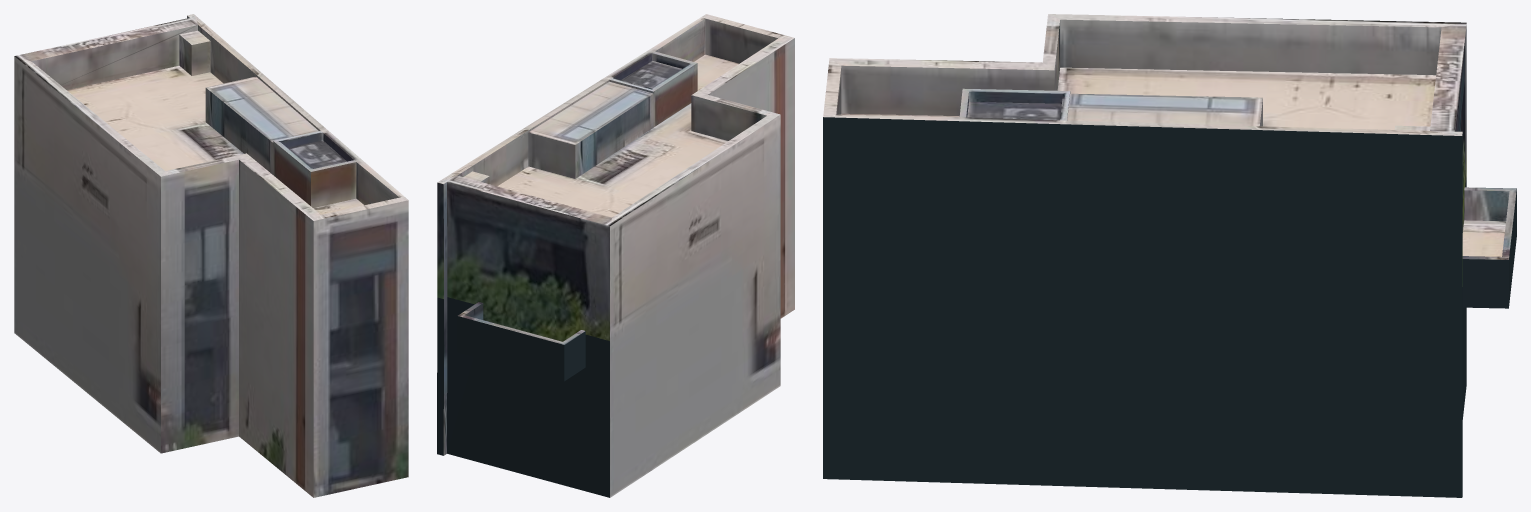
The picture shows the model from 3 angles, left to right: view 1: azimuth 30°, elevation 25°; view 2: azimuth 150°, elevation 25°; view 3: azimuth 270°, elevation 25°; orthographic projection. The views are drawn at different scales.
Visible parts, largest first — view 1: B283774038401062A0; view 2: B283774038401062A0; view 3: B283774038401062A0.
Part boxes in pixels (bbox=[...]): B283774038401062A0: bbox=[14, 14, 408, 497]; B283774038401062A0: bbox=[437, 14, 794, 497]; B283774038401062A0: bbox=[823, 14, 1516, 497].
Bounding box in the file's own units: 6.78 × 9.37 × 16.28.
1 material, 1 textured.
